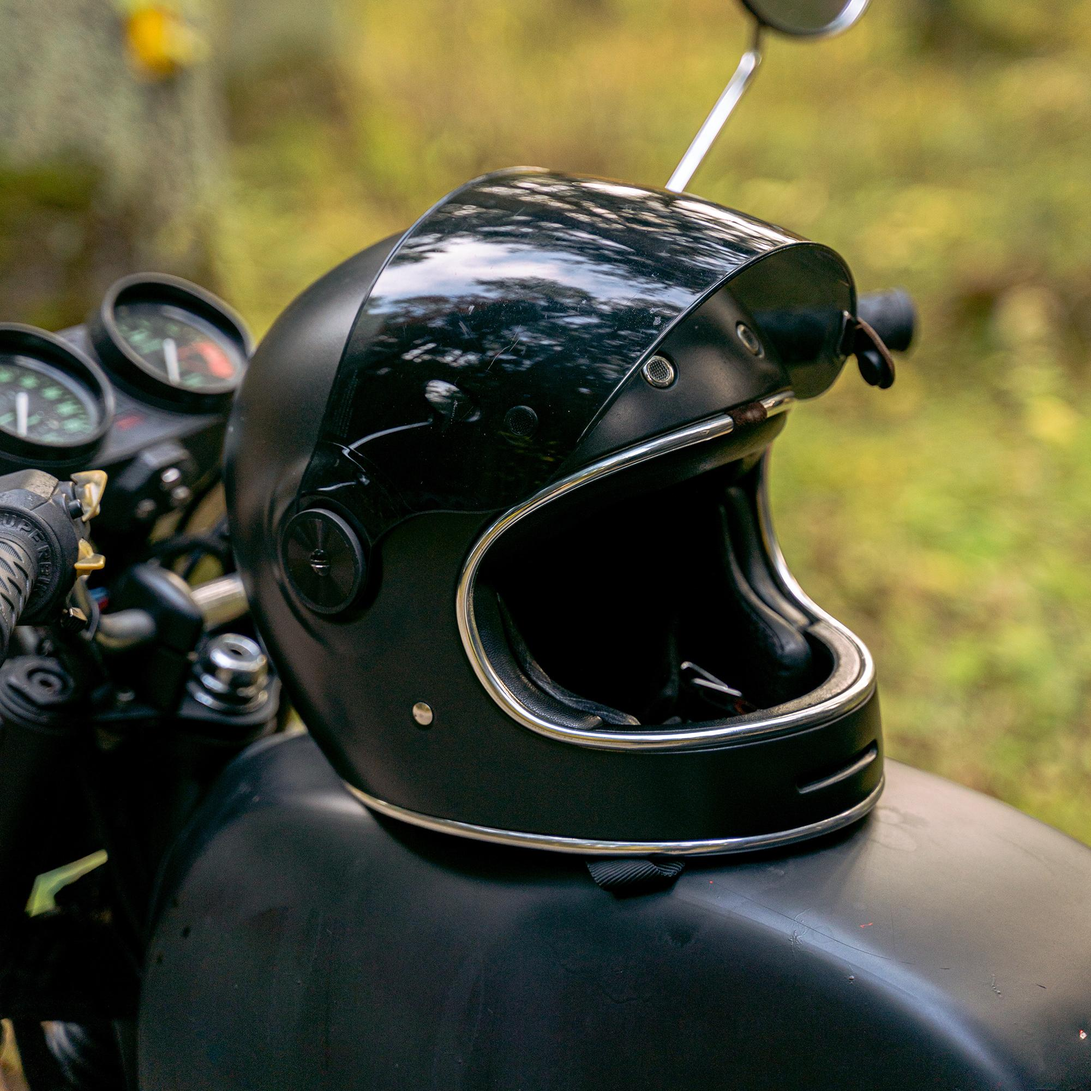helmet: (217, 161, 900, 897)
